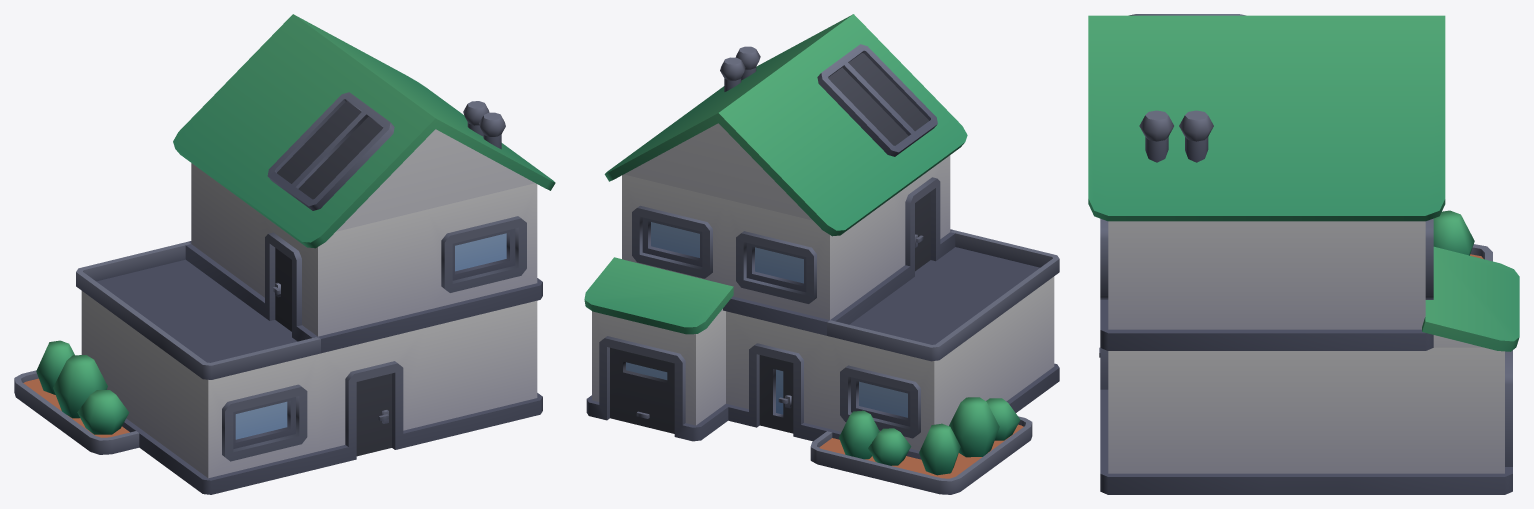
File: building-type-u.glb
3 views of the same model, side by side, from view 1: azimuth 30°, elevation 25°; view 2: azimuth 150°, elevation 25°; view 3: azimuth 270°, elevation 25° (orthographic). The views are drawn at different scales.
Parts seen in each view (by area): view 1: building-type-u; view 2: building-type-u; view 3: building-type-u.
Boxes of the visible parts, x1,y1,x2,y2 form: building-type-u: (14,14,555,494); building-type-u: (584,14,1059,494); building-type-u: (1088,14,1519,494).
Bounding box in the file's own units: 1.43 × 1.14 × 1.09.
